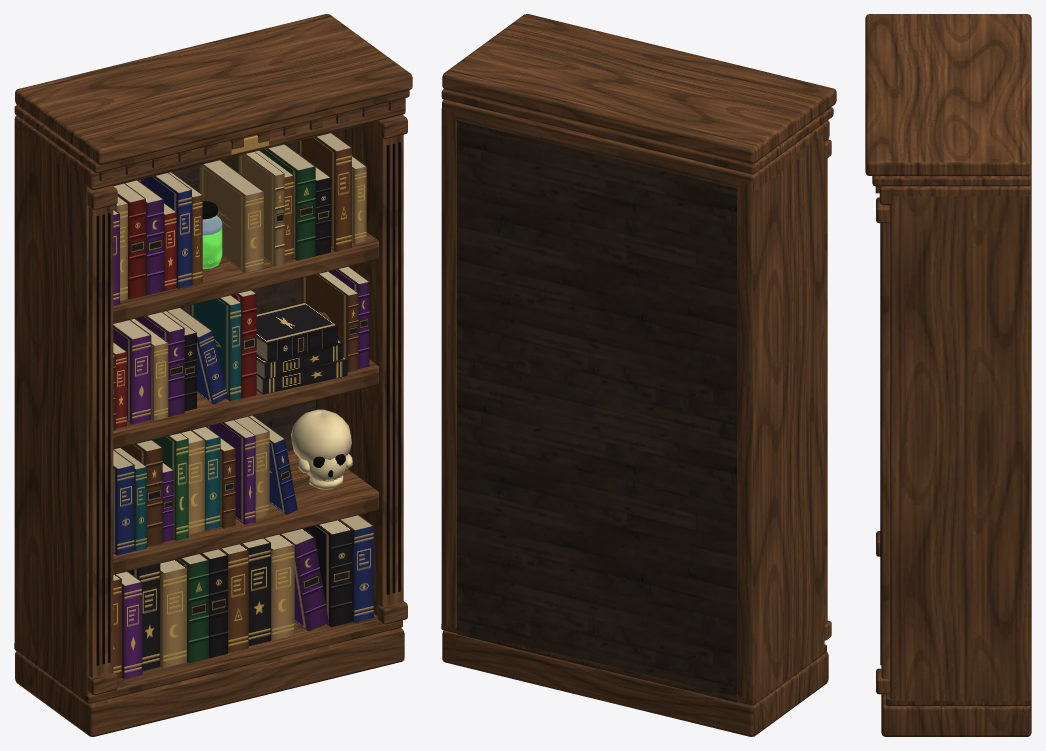
File: prop_bookshelf.glb
The picture shows the model from 3 angles, left to right: view 1: azimuth 30°, elevation 25°; view 2: azimuth 150°, elevation 25°; view 3: azimuth 270°, elevation 25°; orthographic projection. The views are drawn at different scales.
Visible parts, largest first — view 1: prop; view 2: prop; view 3: prop.
Part boxes in pixels (x1,y1,x2,y2): prop: (14,14,412,736); prop: (441,14,836,736); prop: (865,14,1031,736).
Size of what is drawn, in the model's own units: 1 by 1.8 by 0.47.
Materials: 8 (7 with a texture image).
